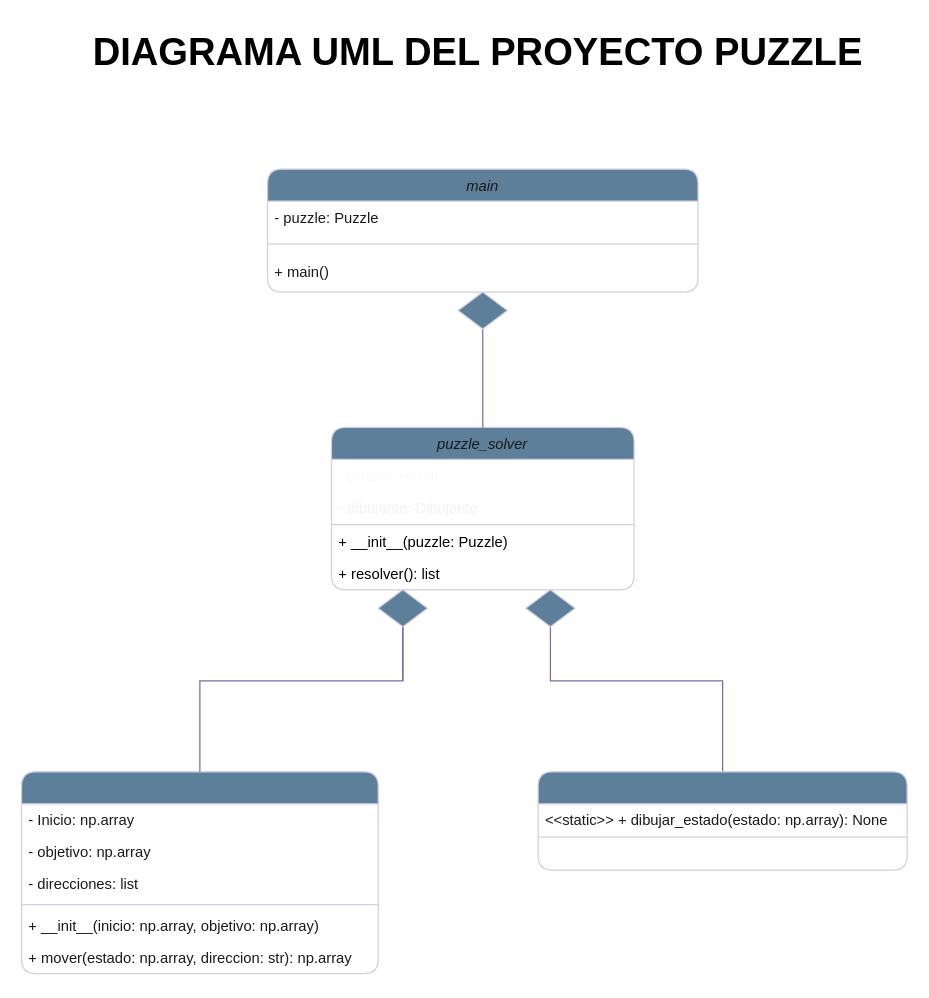
This 929x998 diagram has some shape labels left out. The box of each missing label's shape, as (x1, y1, x2, y2) in pixels:
dibujante: (537, 771, 907, 870)
puzzle: (20, 771, 378, 974)
